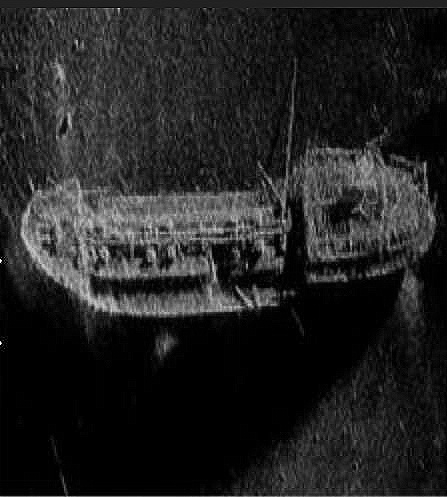ship: (18, 144, 444, 322)
